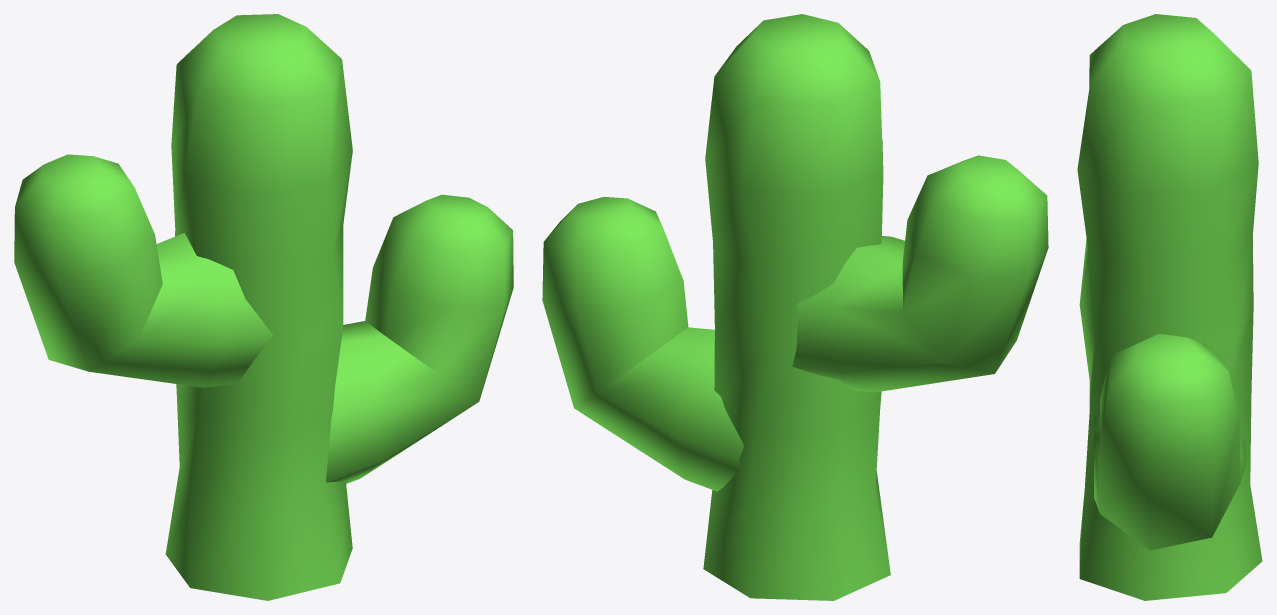
File: Cactus2.fbx
3 views of the same model, side by side, from view 1: azimuth 30°, elevation 25°; view 2: azimuth 150°, elevation 25°; view 3: azimuth 270°, elevation 25° (orthographic).
Parts seen in each view (by area): view 1: Cactus2; view 2: Cactus2; view 3: Cactus2.
Boxes of the visible parts, left/top/right/bottom form: Cactus2: left=14, top=14, right=513, bottom=600; Cactus2: left=542, top=14, right=1048, bottom=600; Cactus2: left=1077, top=14, right=1262, bottom=600.
Size of the model in its own units: 657 by 684 by 218.
